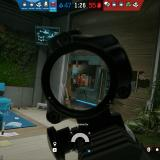Character: (82, 79, 87, 87)
Friend_label: (46, 96, 54, 102), (106, 100, 114, 106), (8, 98, 12, 104)
Head: (82, 79, 84, 81)
